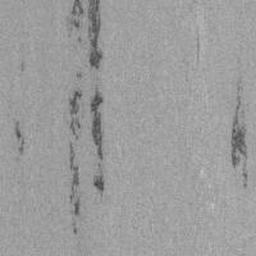Inclusion: (68, 83, 106, 236), (64, 0, 104, 69), (229, 76, 251, 189), (13, 119, 27, 157), (74, 69, 84, 81)
